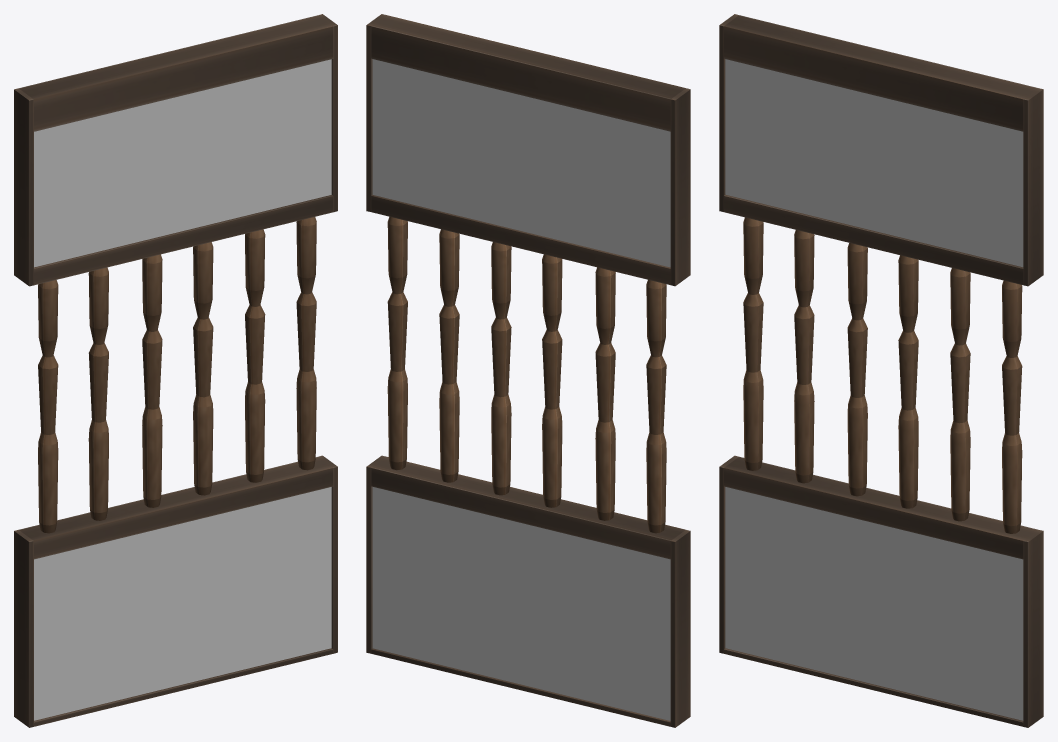
The model's file is tableparti04ab.fbx.
3 renders of one model, left to right at view 1: azimuth 30°, elevation 25°; view 2: azimuth 150°, elevation 25°; view 3: azimuth 330°, elevation 25°, orthographic.
Parts seen in each view (by area): view 1: tableparti04ab; view 2: tableparti04ab; view 3: tableparti04ab.
Boxes of the visible parts, x1,y1,x2,y2 form: tableparti04ab: [14, 14, 337, 727]; tableparti04ab: [366, 14, 690, 727]; tableparti04ab: [719, 14, 1043, 727].
Bounding box in the file's own units: 1.73 × 3.36 × 0.1511.
